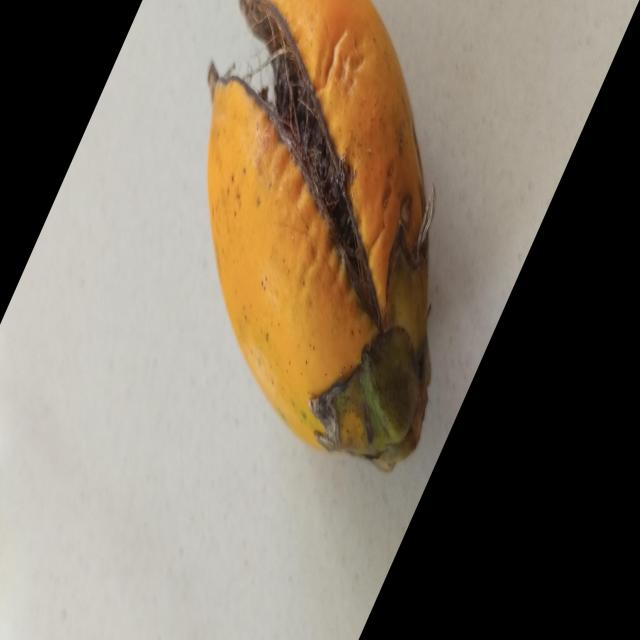damaged: (207, 0, 435, 470)
